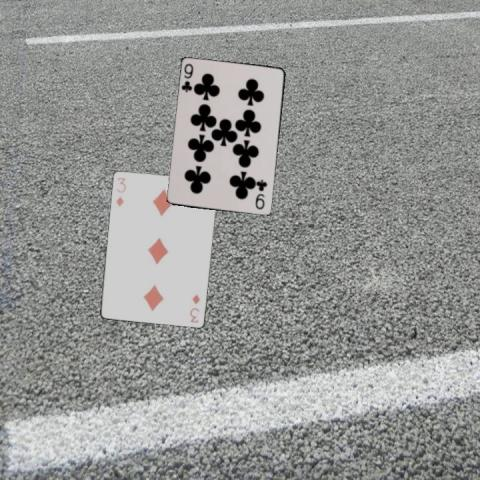3d: (113, 174, 127, 208), (188, 291, 202, 324)
9c: (253, 176, 269, 210), (178, 61, 194, 94)
